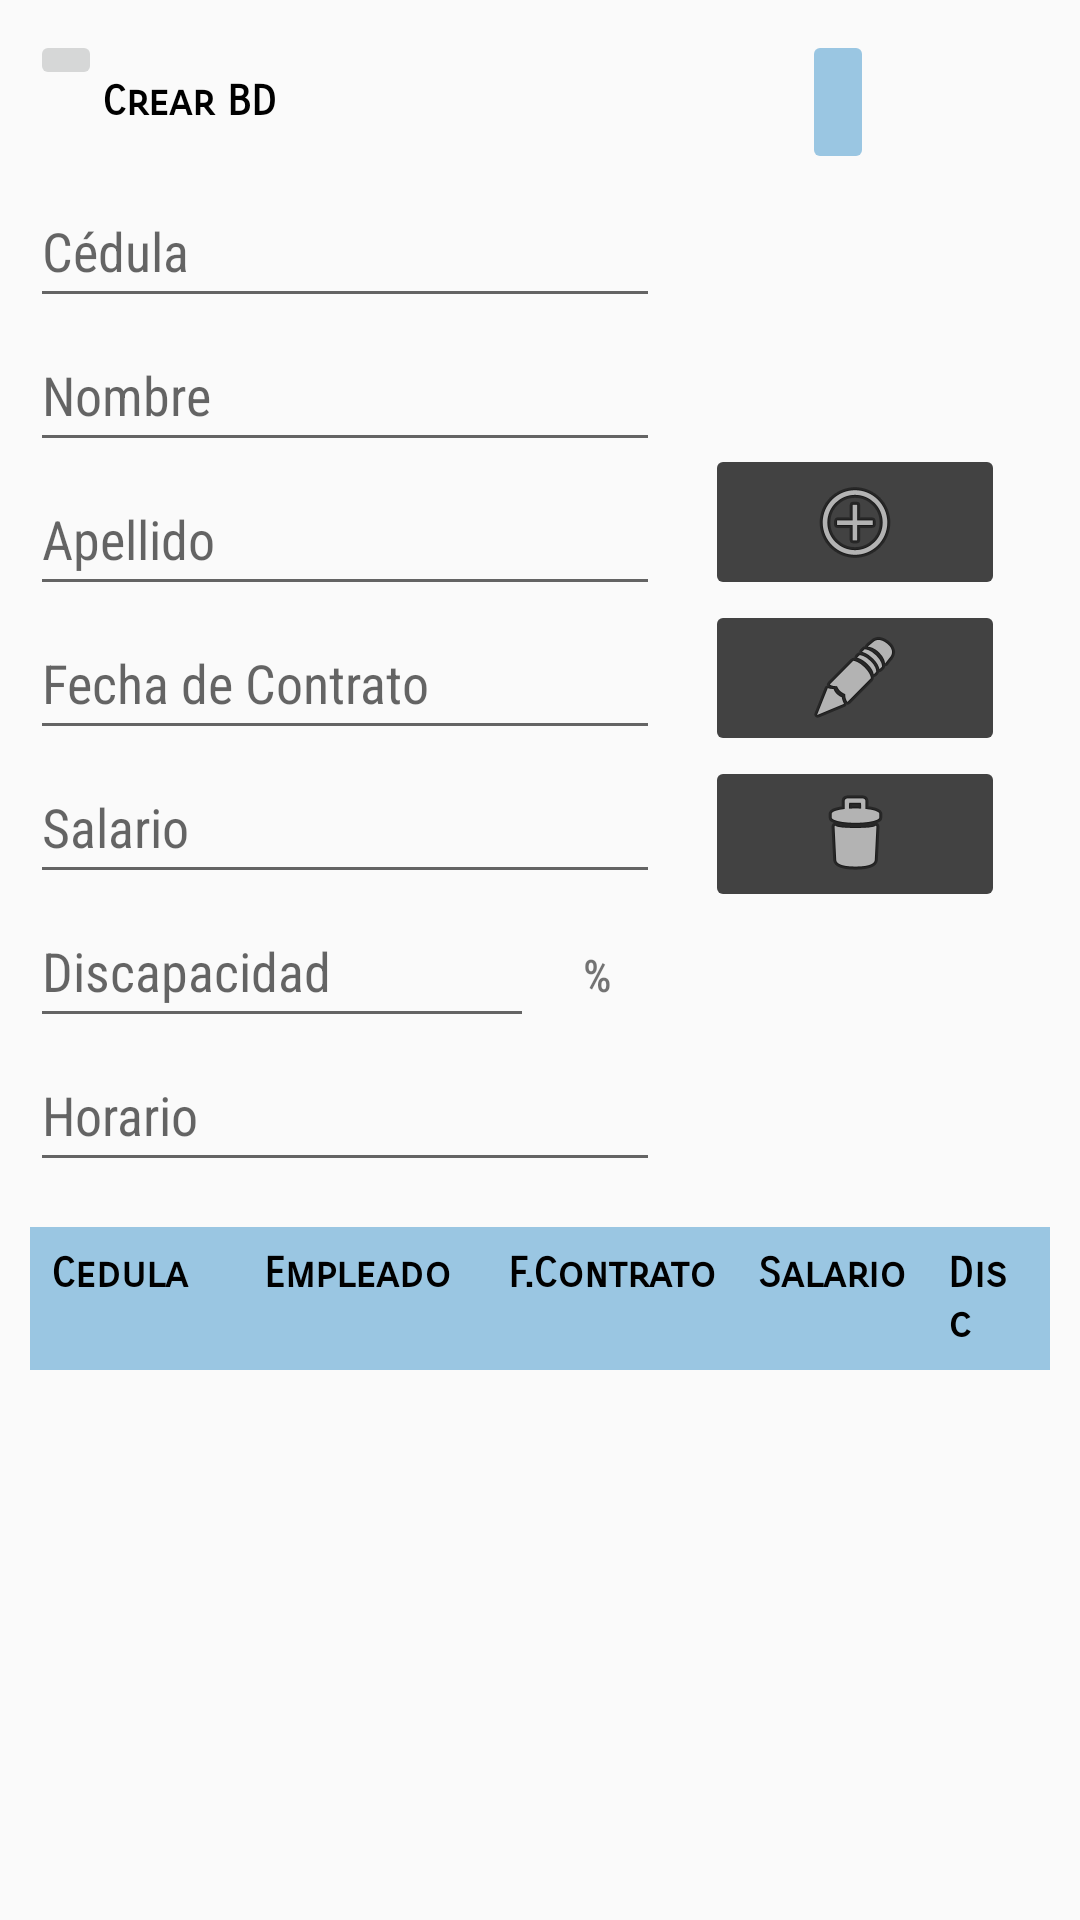

Where to tap for icons on this 1080 × 1920 app screen, as [x,y]:
Agregar: [855,522]
Editar: [855,678]
Eliminar: [855,834]
